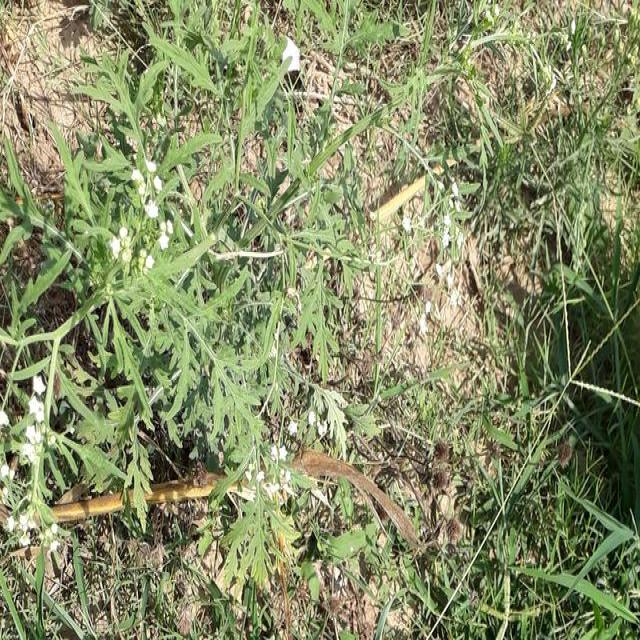weed: (42, 106, 314, 463), (438, 3, 640, 220), (491, 275, 640, 517), (6, 318, 99, 640), (435, 500, 640, 640), (106, 5, 338, 90)
